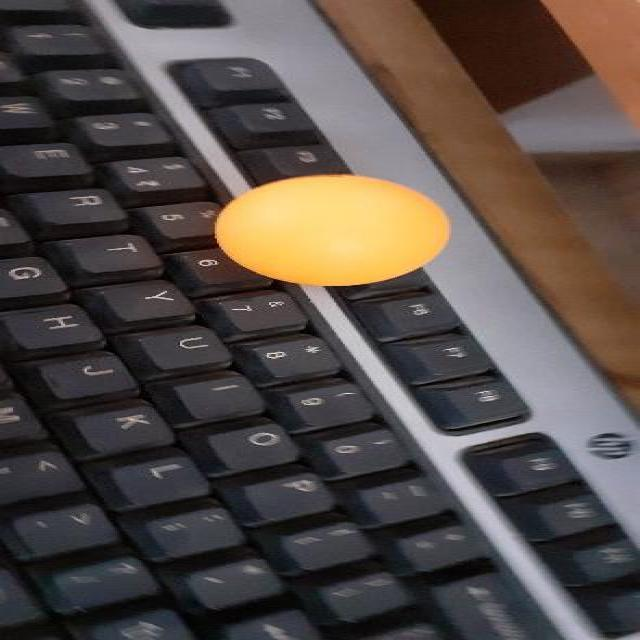oball: (218, 175, 452, 288)
